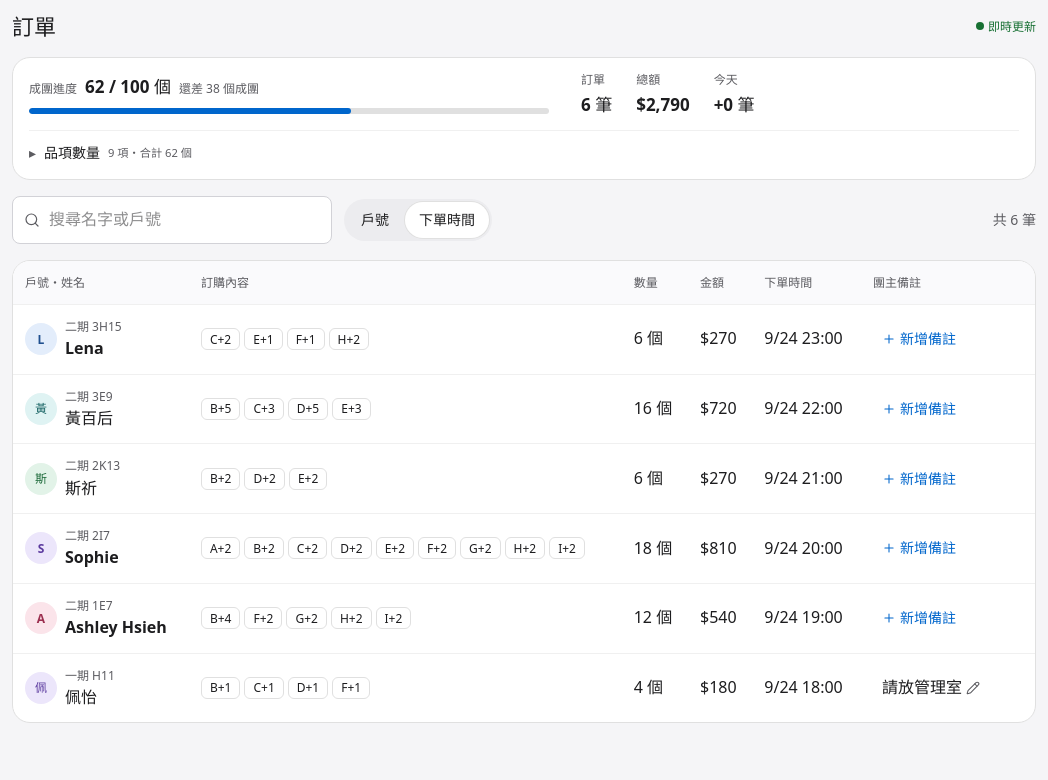
it: OrdersSection › edits an organizer note in place and saves with Enter
Expected: the icon with class "organizer-note-icon" is shown, [966,681,980,695]
Expected: the button with aria-label "編輯 1E7 備註" reads "新增備註", [873,602,965,634]
Click the button with aria-label "編輯 H11 備註".
click(931, 688)  # box [873,672,989,704]
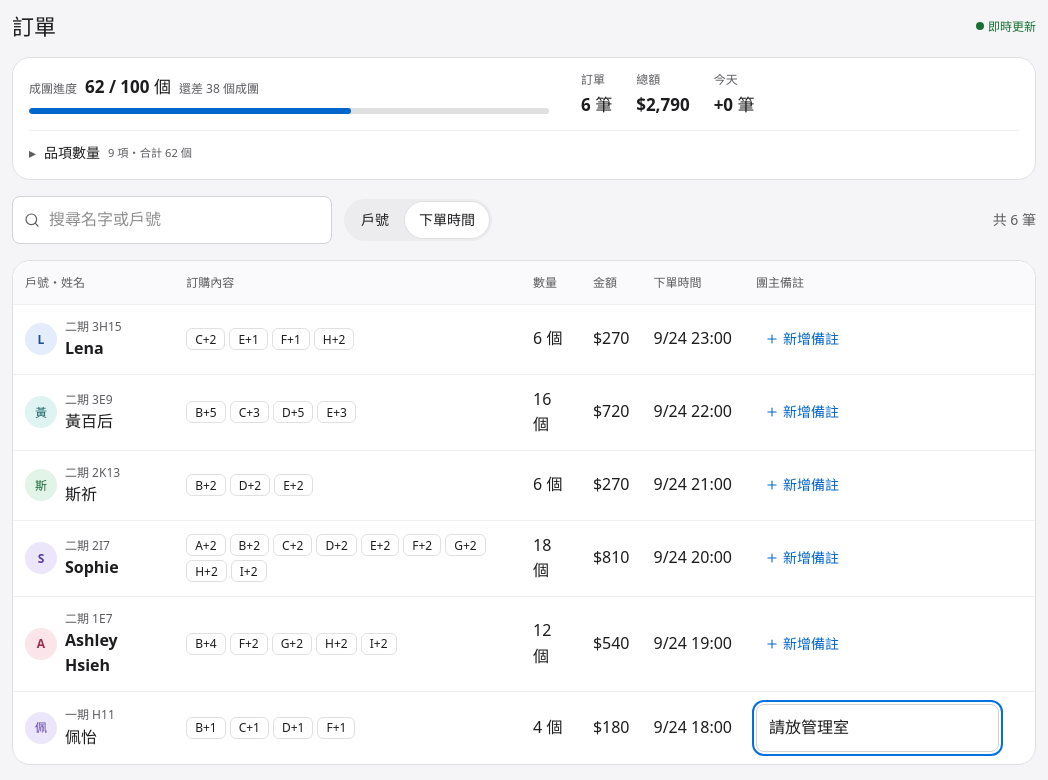
Replace the text in the field named "H11 備註" with "改放警衛室" at (878, 728), box [756,704,999,752]
Then press Enter
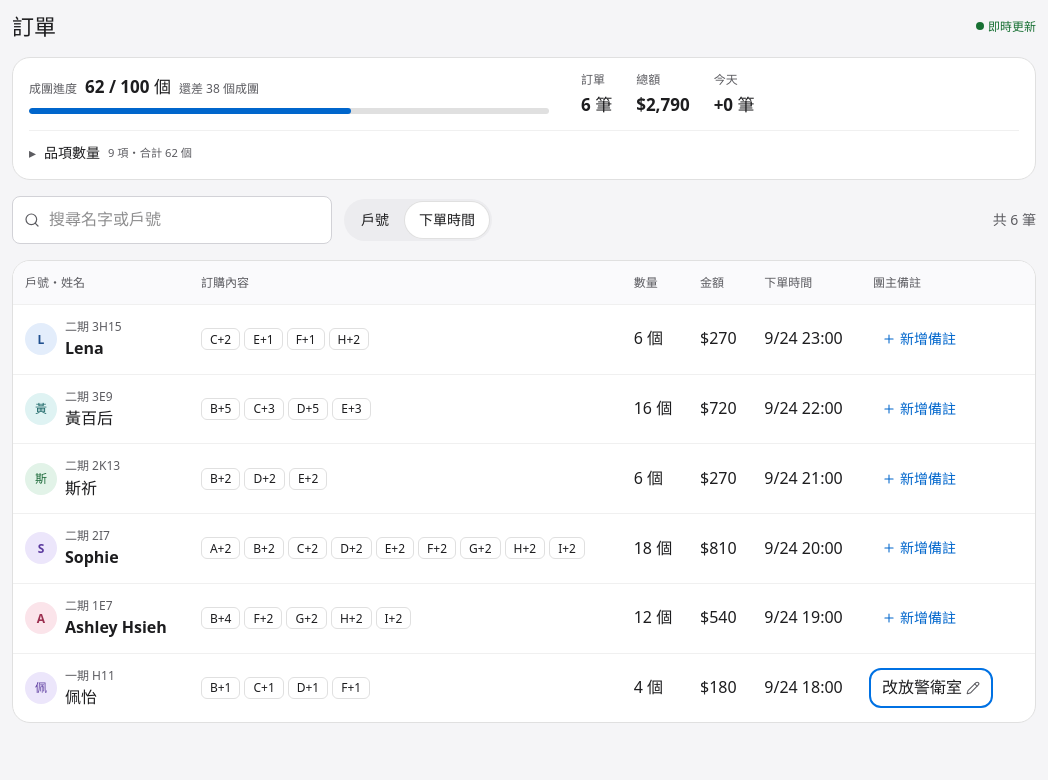
Now the button with aria-label "編輯 H11 備註" reads "改放警衛室", box [873,672,989,704]
